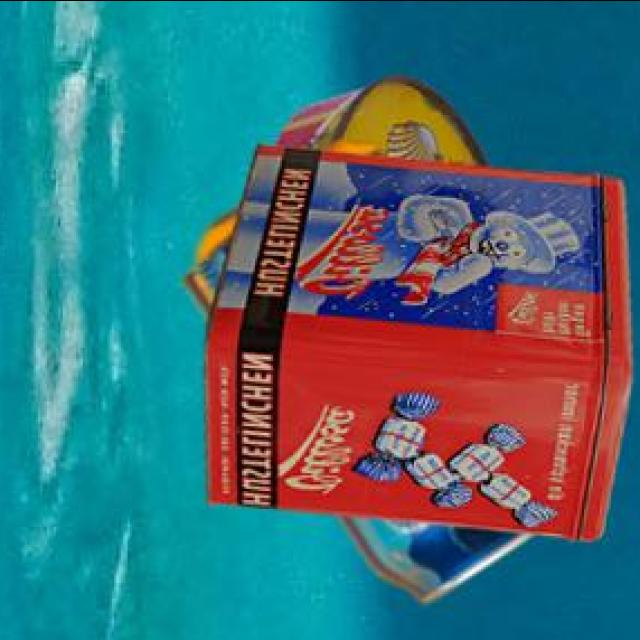logam: (200, 141, 628, 536), (337, 362, 527, 594), (272, 70, 487, 163)
